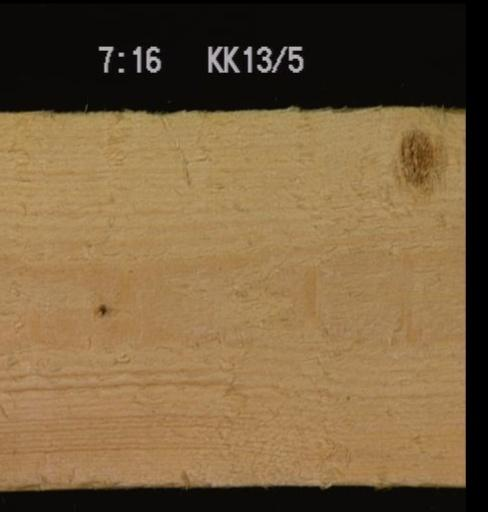small_knot: (89, 297, 110, 320)
sound_knot: (394, 126, 438, 187)
